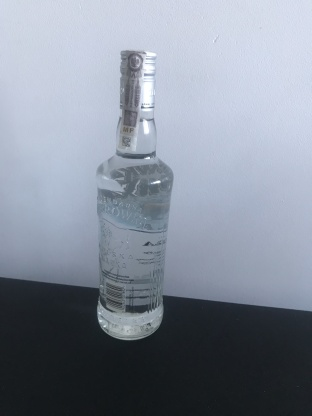nakretka: (117, 46, 158, 114)
